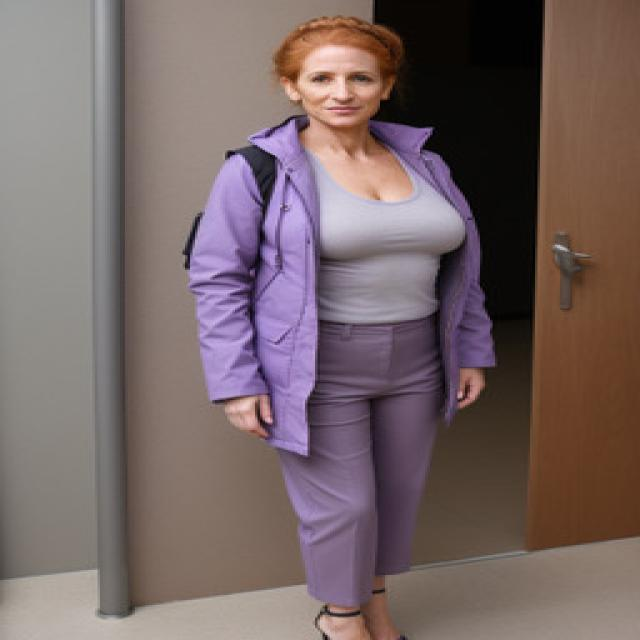Ai human 2: (169, 9, 498, 640)
